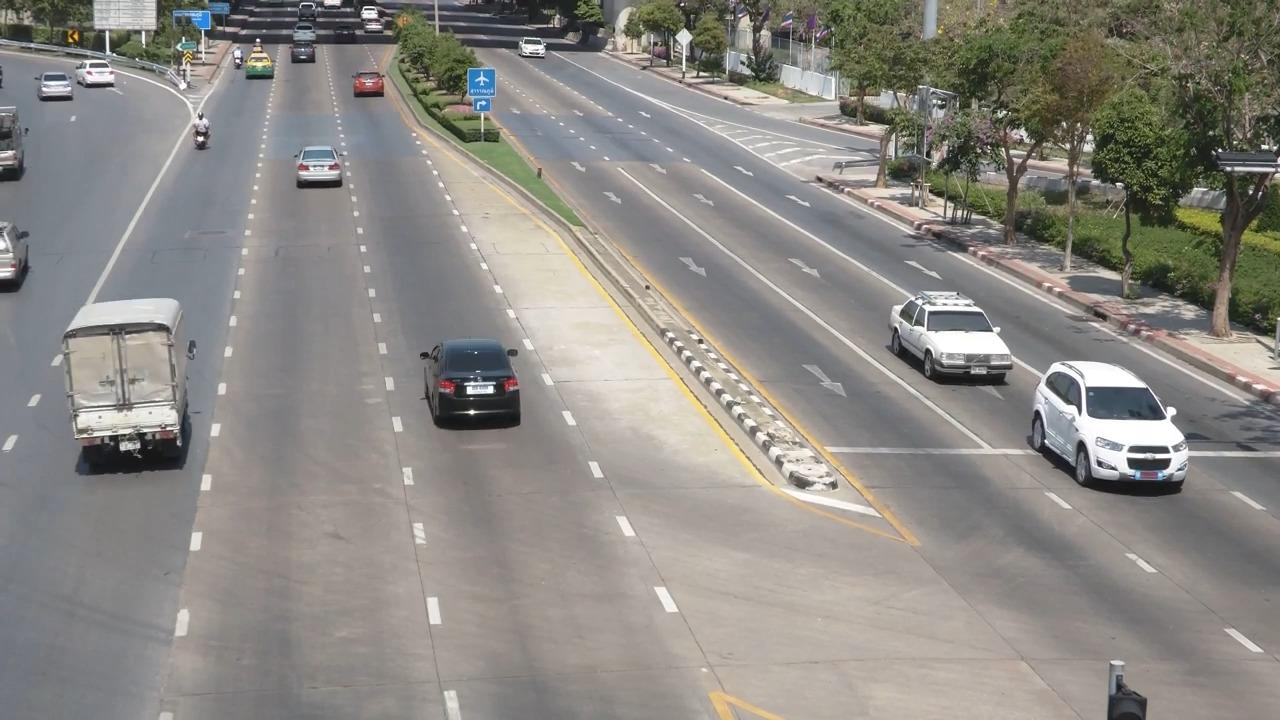CAR: (46, 273, 218, 497), (1024, 359, 1195, 494), (407, 322, 553, 447), (886, 278, 1022, 396), (287, 136, 357, 199), (345, 61, 394, 106), (349, 73, 396, 119), (33, 69, 80, 111), (73, 52, 119, 93), (242, 50, 278, 87), (322, 13, 360, 48), (511, 31, 552, 63), (285, 40, 322, 71), (282, 43, 322, 70), (287, 17, 322, 45)
MOTOR: (188, 108, 216, 161), (225, 43, 246, 82)
